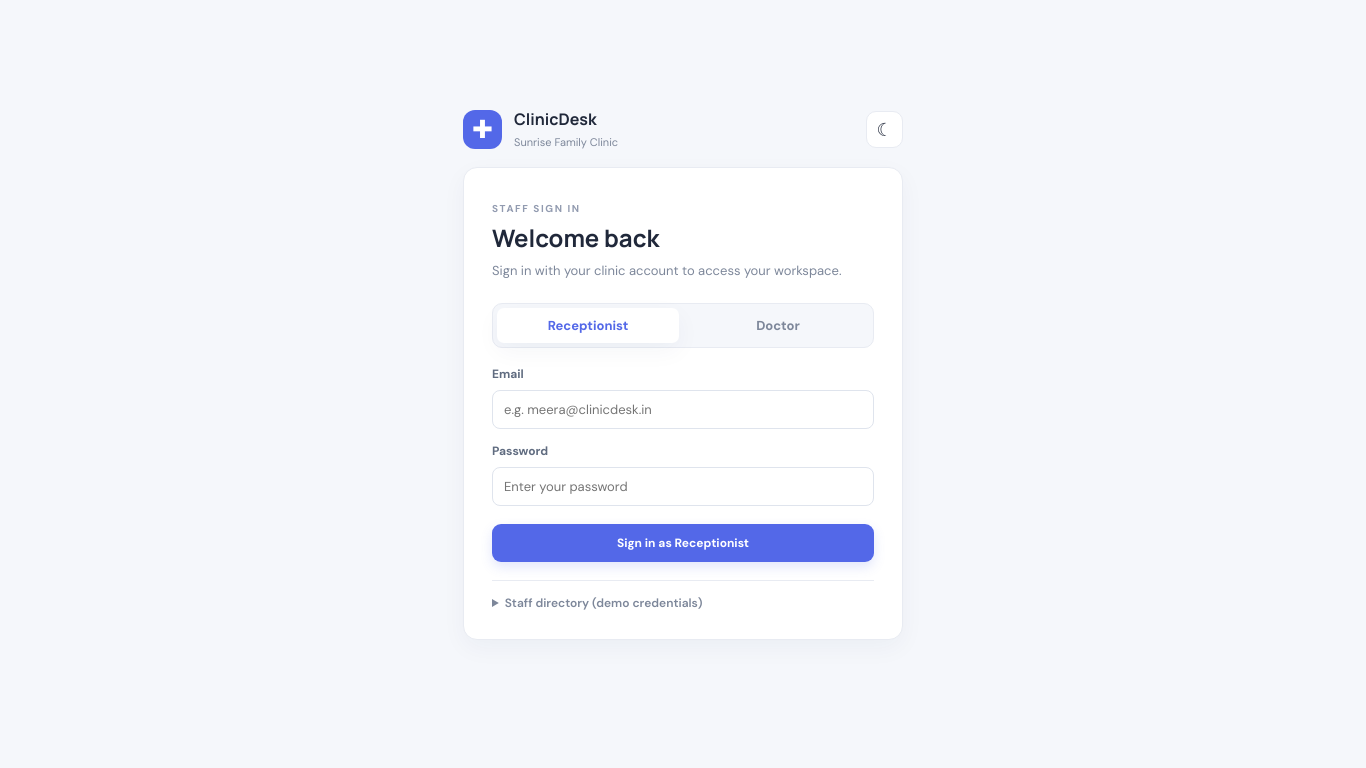
Login flow › authenticates a doctor and directs them to their appointments schedule
Expected: the heading "Welcome back" is shown, [492,222,659,254]
Click the button "Doctor" at (778, 325), box [687,308,869,342]
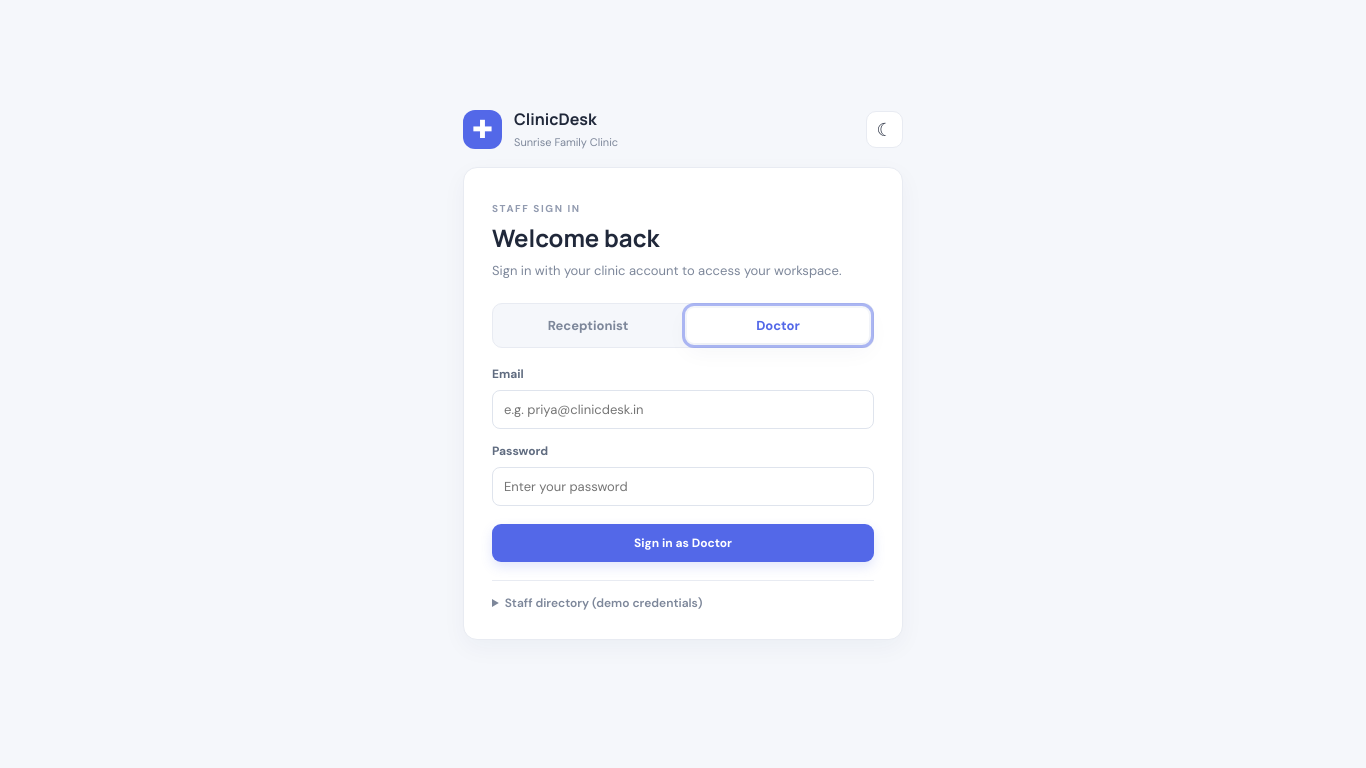
Type "priya@clinicdesk.in" into the field labelled "Email" at (683, 409), box [492,390,874,428]
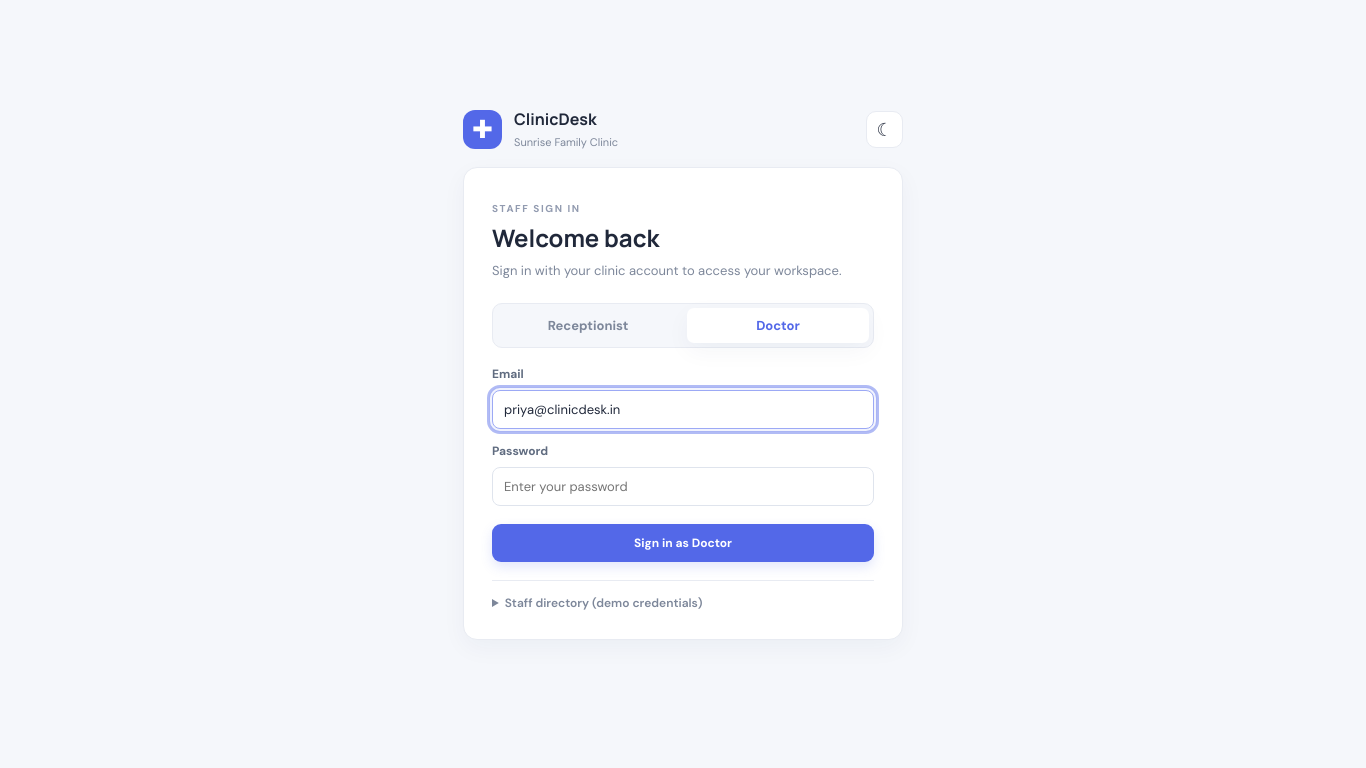
Type "doctor123" into the password field labelled "Password" at (683, 486), box [492,466,874,506]
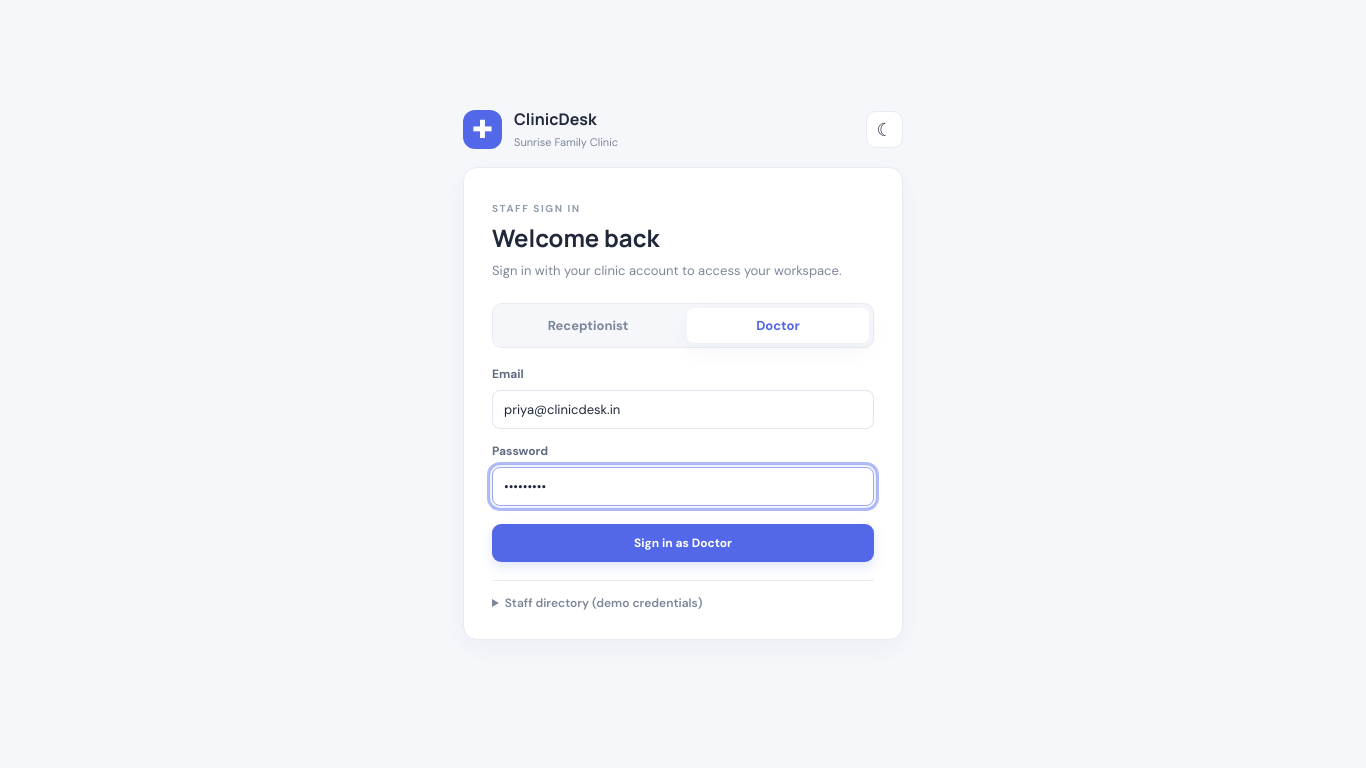
Click the button "Sign in as Doctor" at (683, 542), box [492,524,874,562]
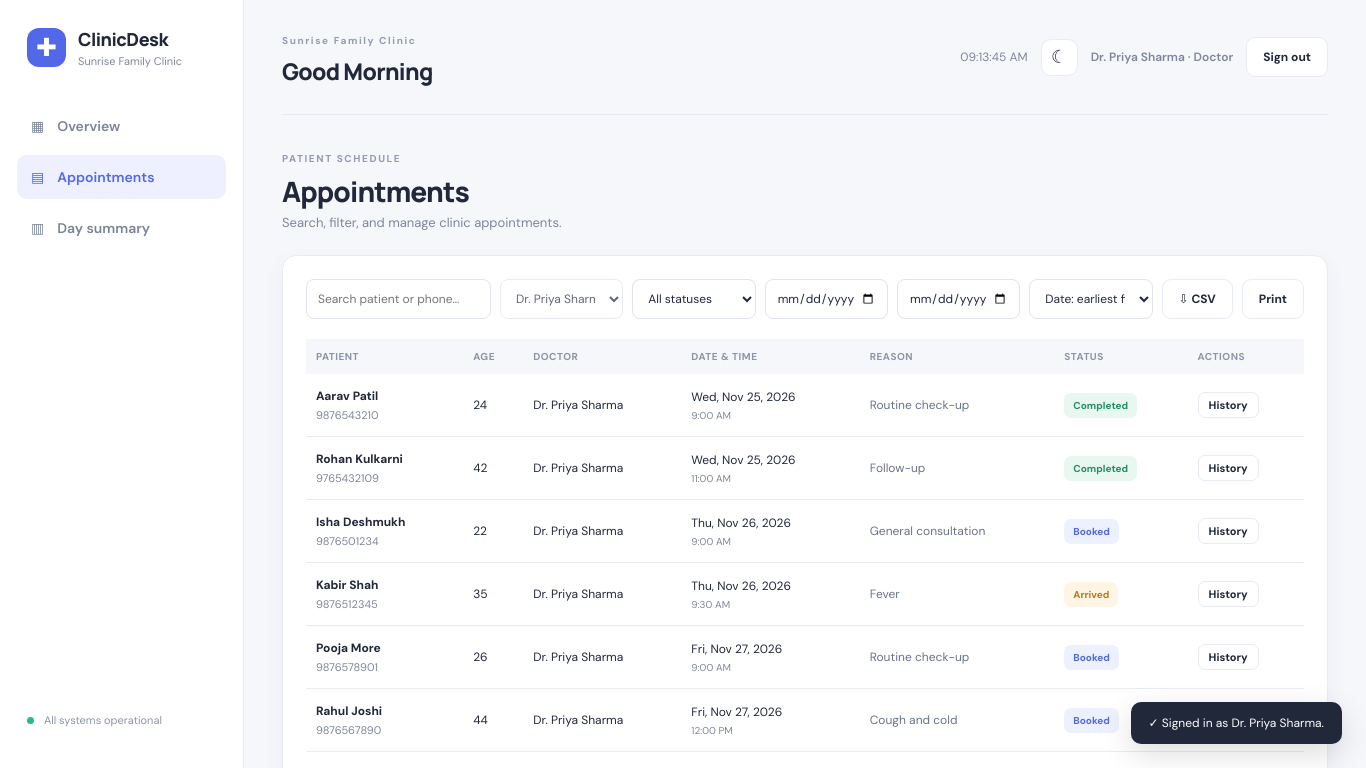
Result: the heading "Appointments" is shown at [282,172,469,210]
Result: the text "Dr. Priya Sharma · Doctor" is shown at [1091,49,1233,65]
